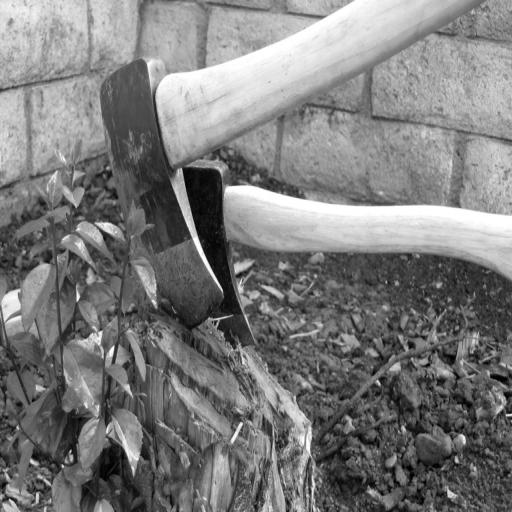Axe: (99, 0, 511, 346)
